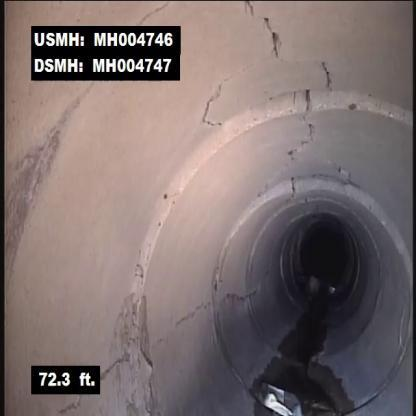crack: (235, 2, 294, 71), (152, 302, 210, 351), (197, 76, 228, 127), (308, 43, 340, 84)
hole: (228, 172, 395, 230), (236, 86, 366, 150)
obsc: (240, 364, 317, 415)
